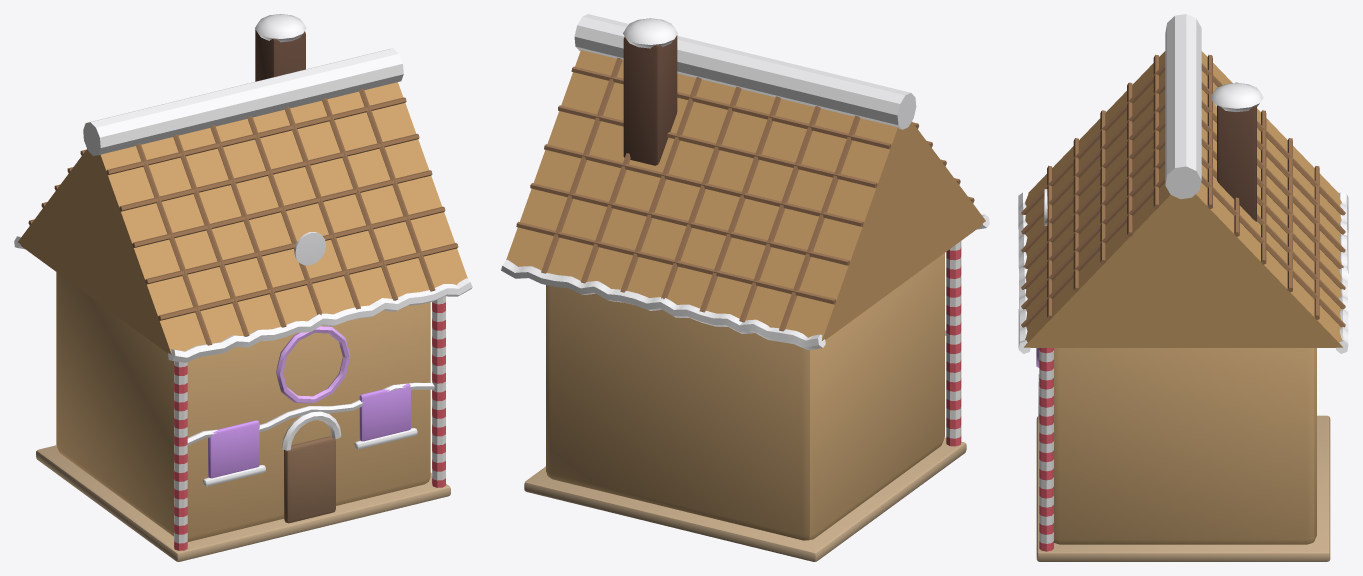
The model's file is GingerHouse_Cursed.fbx.
The picture shows the model from 3 angles, left to right: view 1: azimuth 30°, elevation 25°; view 2: azimuth 150°, elevation 25°; view 3: azimuth 270°, elevation 25°; orthographic projection. The views are drawn at different scales.
Parts seen in each view (by area): view 1: GingerHouse_Cursed; view 2: GingerHouse_Cursed; view 3: GingerHouse_Cursed.
Part boxes in pixels (x1,y1,x2,y2): GingerHouse_Cursed: (14, 14, 472, 561); GingerHouse_Cursed: (501, 14, 989, 561); GingerHouse_Cursed: (1018, 14, 1348, 561).
Bounding box in the file's own units: 10.8 × 14.47 × 9.89.
